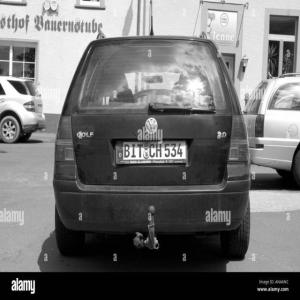Plate: (116, 141, 187, 164)
